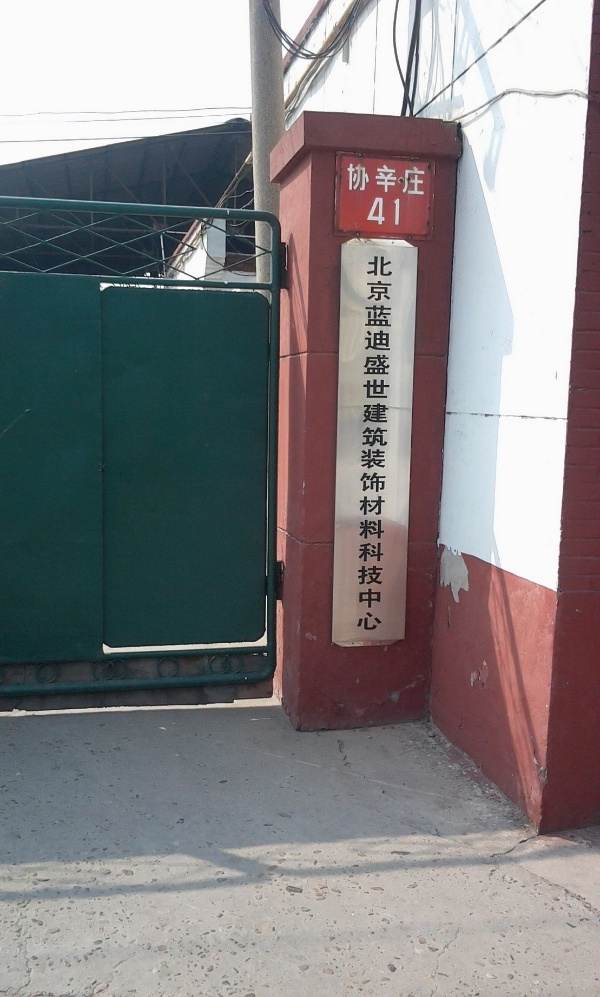text: (369, 252, 384, 633), (385, 252, 392, 633), (366, 252, 368, 633), (353, 162, 368, 197), (369, 162, 384, 197), (385, 162, 400, 197), (401, 162, 416, 197), (369, 196, 384, 230), (385, 196, 400, 230), (417, 162, 427, 197), (346, 162, 352, 197), (366, 196, 368, 230), (401, 196, 403, 230)
